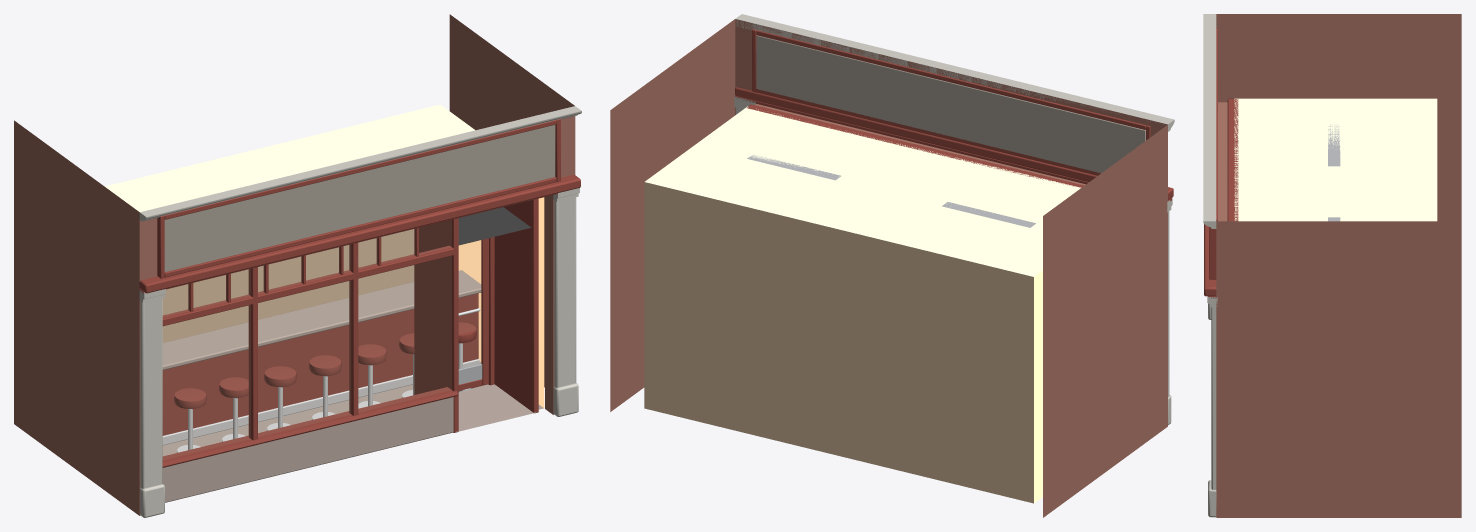
File: shop_lit_6a.glb
The picture shows the model from 3 angles, left to right: view 1: azimuth 30°, elevation 25°; view 2: azimuth 150°, elevation 25°; view 3: azimuth 270°, elevation 25°; orthographic projection. The views are drawn at different scales.
Visible parts, largest first — view 1: shop_lit_6a; view 2: shop_lit_6a; view 3: shop_lit_6a.
Boxes of the visible parts, x1=… form: shop_lit_6a: x1=14, y1=14, x2=581, y2=517; shop_lit_6a: x1=610, y1=14, x2=1174, y2=517; shop_lit_6a: x1=1203, y1=14, x2=1461, y2=517.
Bounding box in the file's own units: 6 × 4 × 3.16.
